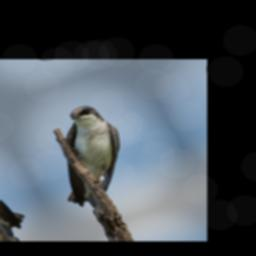Swallow: (25, 99, 150, 216)
